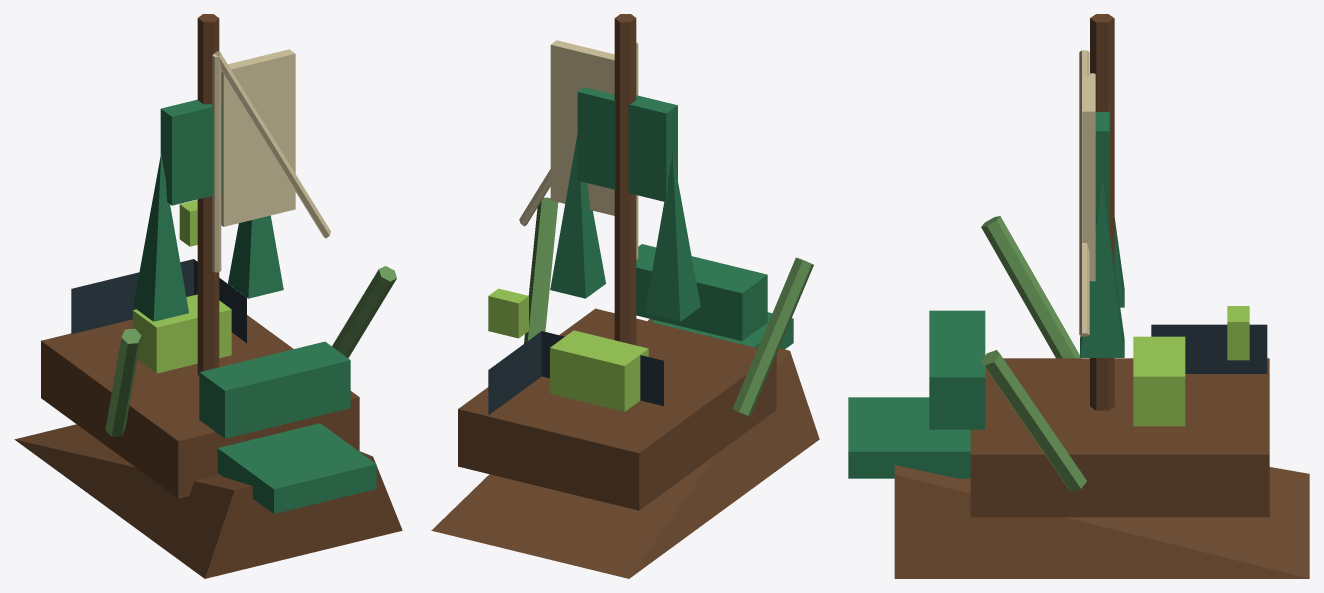
The model's file is fishing-vessel.obj.
3 renders of one model, left to right at view 1: azimuth 30°, elevation 25°; view 2: azimuth 150°, elevation 25°; view 3: azimuth 270°, elevation 25°, orthographic. The views are drawn at different scales.
Parts seen in each view (by area): view 1: ship; view 2: ship; view 3: ship.
Part boxes in pixels (x1=…): ship: x1=14, y1=14, x2=402, y2=578; ship: x1=431, y1=14, x2=819, y2=578; ship: x1=848, y1=14, x2=1309, y2=578.
Size of the model in its own units: 1.39 by 2.26 by 1.86.
